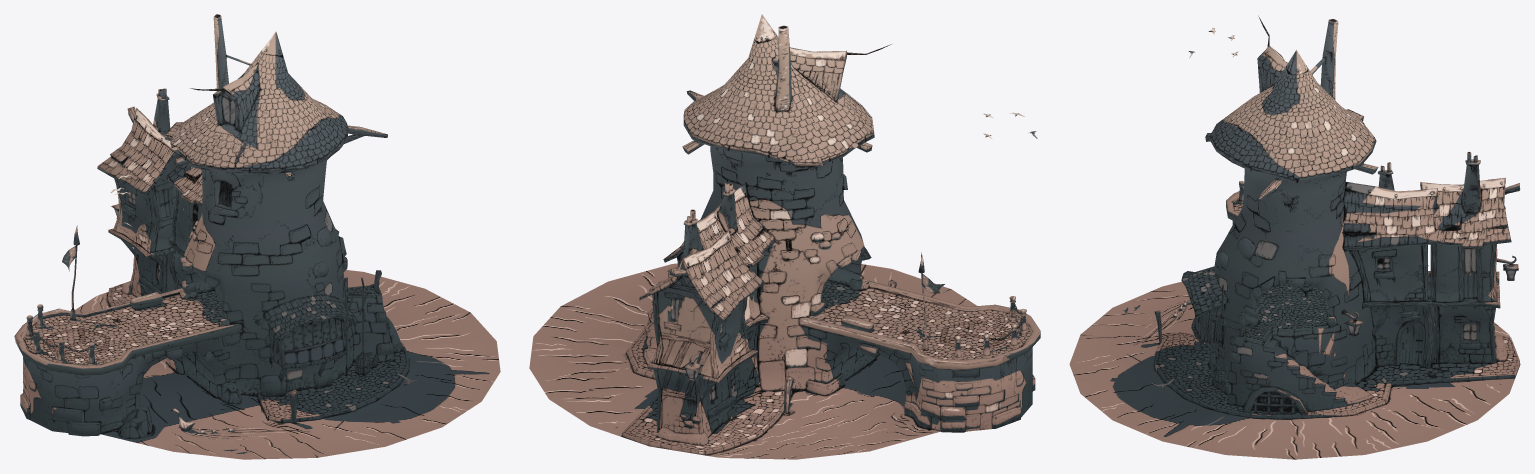
3 renders of one model, left to right at view 1: azimuth 30°, elevation 25°; view 2: azimuth 150°, elevation 25°; view 3: azimuth 270°, elevation 25°, orthographic. The views are drawn at different scales.
Visible parts, largest first — view 1: houses; view 2: houses; view 3: houses.
Boxes of the visible parts, box(x1,y1,x2,y2) form: houses: box(14, 14, 500, 459); houses: box(529, 14, 1040, 459); houses: box(1069, 15, 1520, 459).
Size of what is drawn, in the model's own units: 24.73 by 17.91 by 22.21.
